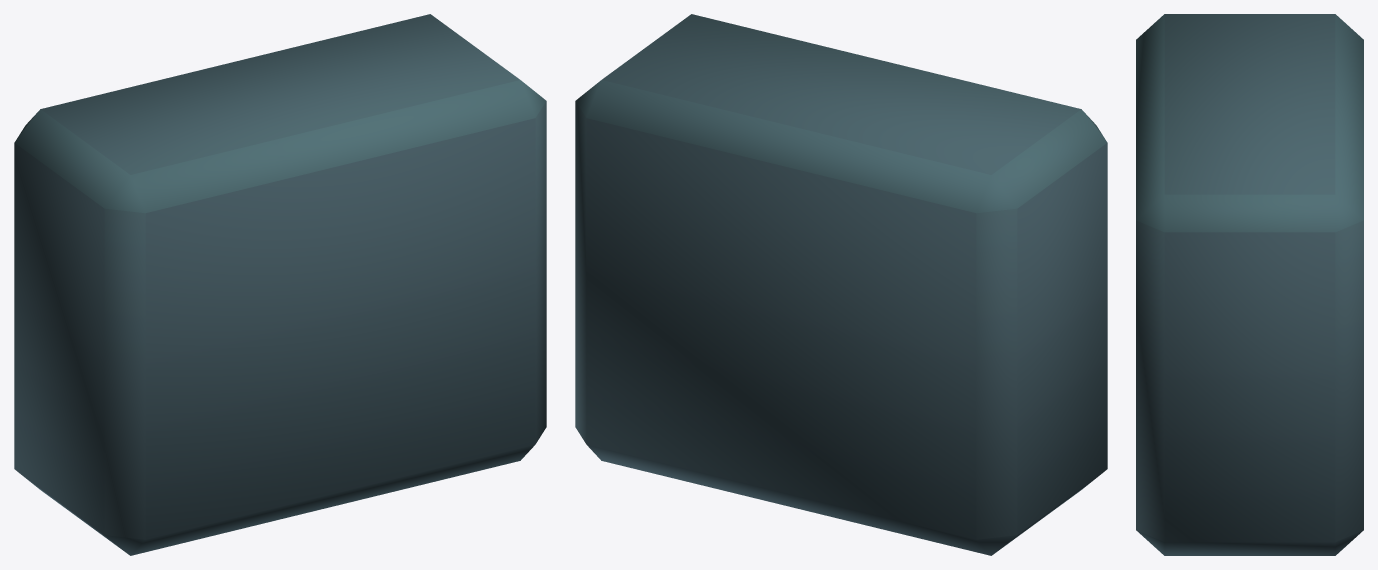
Rendered from cube_02_hue_2.fbx.
3 views of the same model, side by side, from view 1: azimuth 30°, elevation 25°; view 2: azimuth 150°, elevation 25°; view 3: azimuth 270°, elevation 25° (orthographic). The views are drawn at different scales.
Parts seen in each view (by area): view 1: cube_02_hue_2; view 2: cube_02_hue_2; view 3: cube_02_hue_2.
Boxes of the visible parts, x1,y1,x2,y2 form: cube_02_hue_2: (14,14,546,555); cube_02_hue_2: (575,14,1107,555); cube_02_hue_2: (1136,14,1363,555).
Bounding box in the file's own units: 53.12 × 43.75 × 25.
